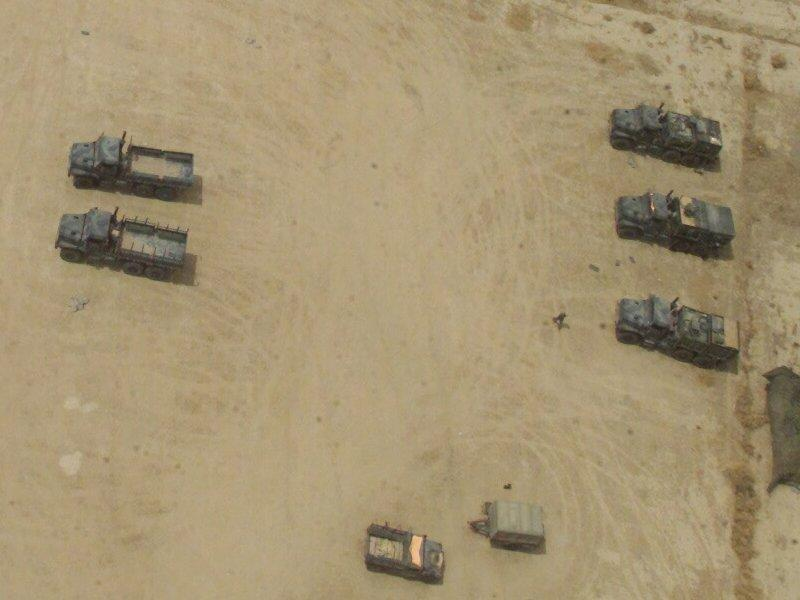armored_car: (612, 294, 740, 372), (612, 191, 732, 262), (608, 106, 726, 170)
truck: (56, 206, 190, 281), (68, 130, 196, 202)
